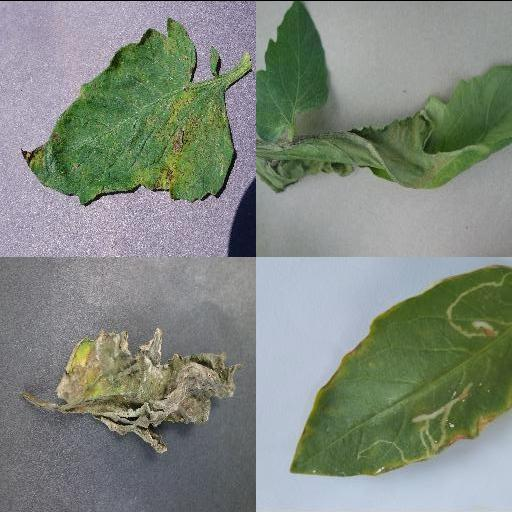Healthy: (256, 0, 332, 141)
Late Blight: (256, 63, 512, 191), (56, 328, 242, 454)
Leaf Miner: (289, 263, 512, 475)
Septoria: (21, 17, 239, 205)
